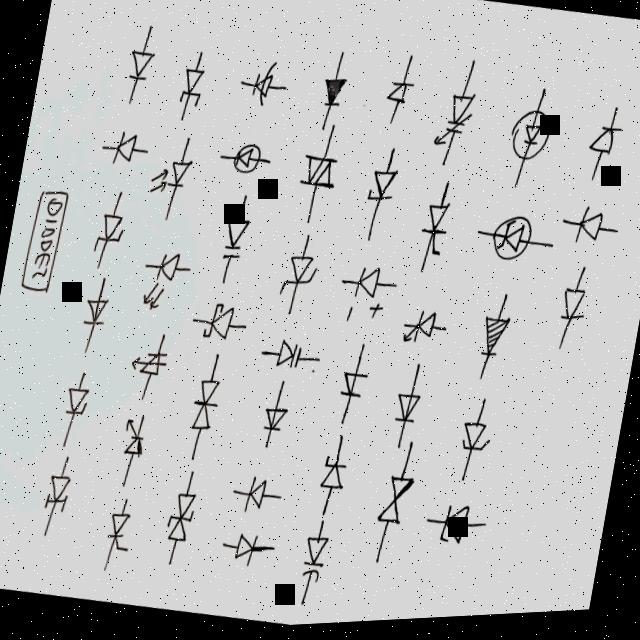diode: (432, 78, 484, 160), (343, 258, 395, 338), (502, 98, 556, 175), (484, 204, 540, 275), (144, 147, 198, 217), (139, 242, 188, 317), (371, 465, 422, 535), (183, 368, 230, 441), (276, 240, 325, 310), (160, 479, 207, 551), (432, 492, 481, 561), (292, 140, 344, 204), (125, 323, 173, 392), (416, 194, 460, 269), (471, 306, 516, 375), (382, 374, 432, 435), (451, 402, 497, 467), (293, 530, 338, 591), (397, 302, 446, 358), (168, 56, 212, 117), (90, 202, 132, 264), (378, 59, 418, 124), (56, 374, 98, 433), (565, 199, 613, 250), (194, 296, 241, 348), (243, 54, 283, 115), (218, 206, 256, 269), (553, 283, 595, 340), (584, 119, 626, 176), (99, 502, 142, 557), (223, 529, 270, 579), (225, 135, 271, 185), (108, 120, 148, 177), (362, 162, 404, 216), (270, 329, 314, 380), (75, 288, 118, 340), (121, 36, 161, 91), (40, 464, 80, 516), (315, 64, 350, 122), (337, 357, 372, 415), (255, 395, 294, 445), (116, 412, 153, 464), (316, 450, 352, 502), (237, 466, 272, 519)
